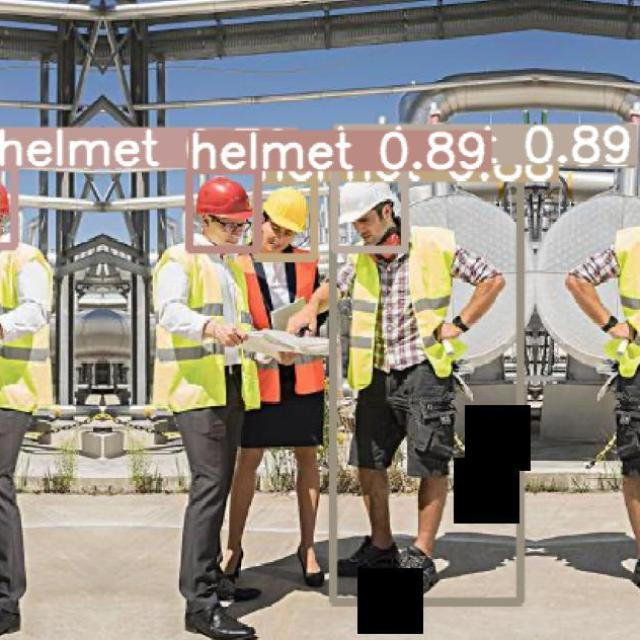helmet: (336, 180, 398, 225), (196, 176, 253, 223), (262, 186, 308, 233)
